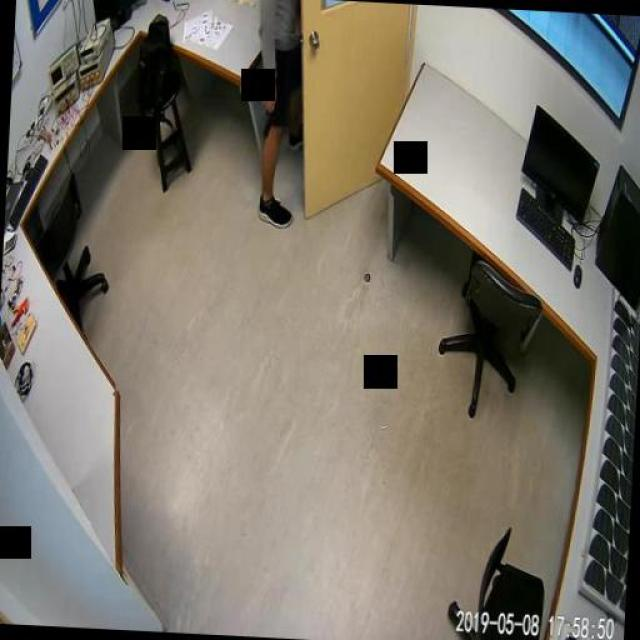gun: (260, 88, 278, 136)
